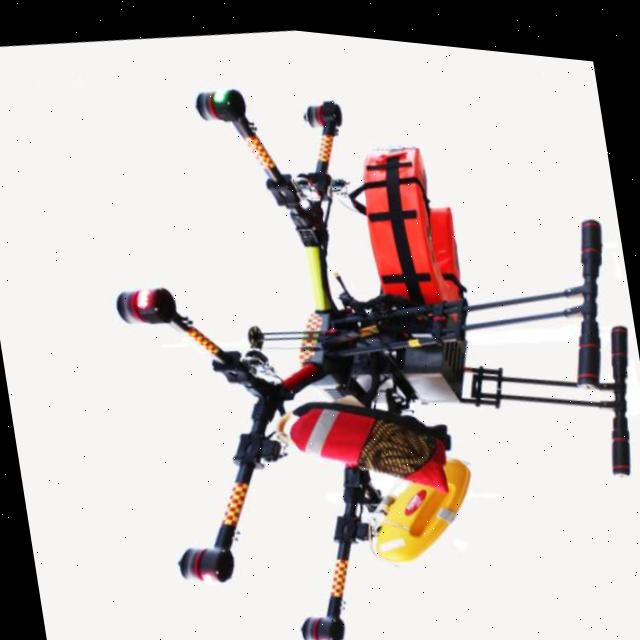drones: (51, 4, 640, 640)
